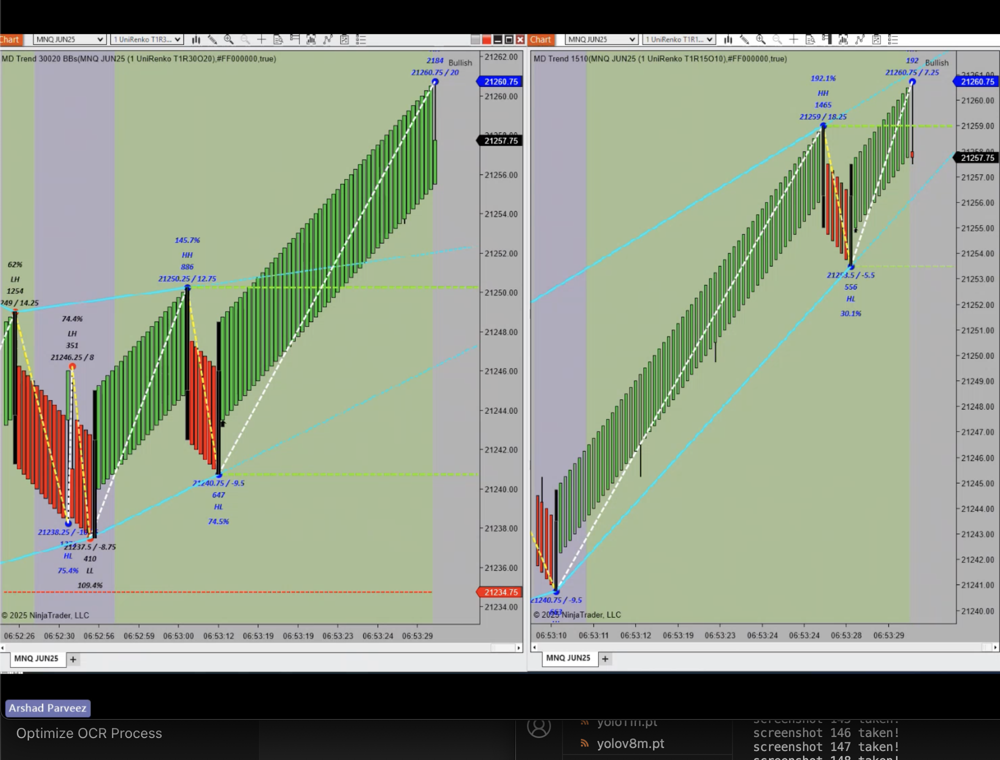HH: (810, 85, 835, 100), (177, 247, 199, 262)
HL: (841, 290, 864, 310), (210, 498, 231, 517), (57, 549, 80, 565)
LH: (6, 272, 29, 289), (62, 327, 86, 343)
LL: (81, 563, 107, 583)
